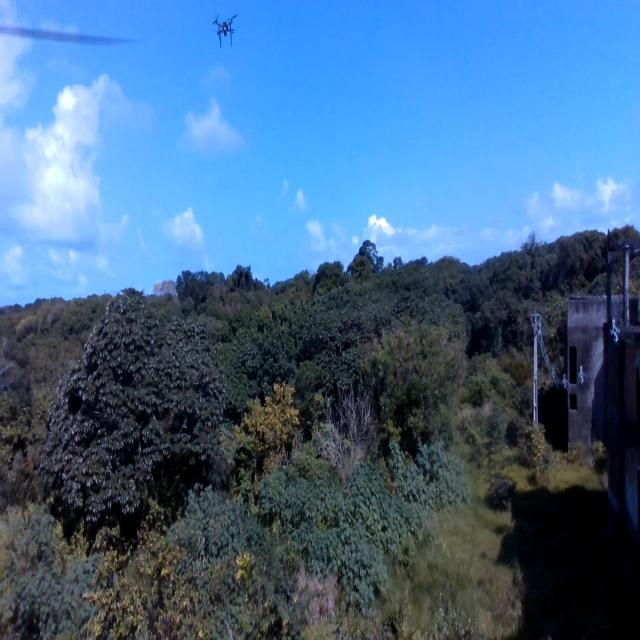-uav-: (207, 8, 255, 56)
